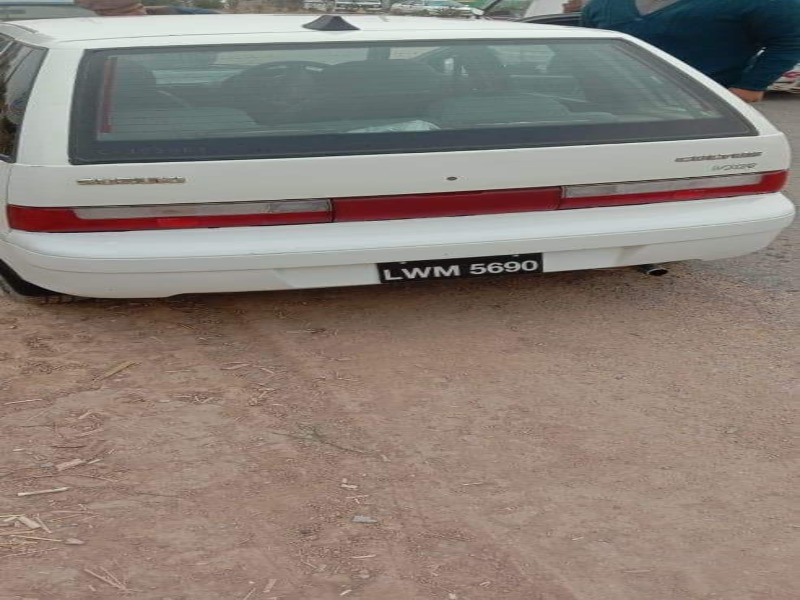License Plate: (376, 248, 549, 287)
